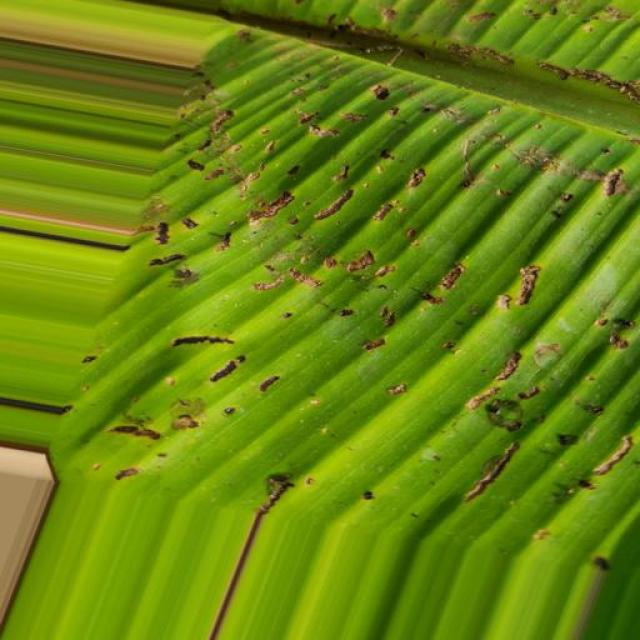Black_rot: (96, 0, 640, 639)
